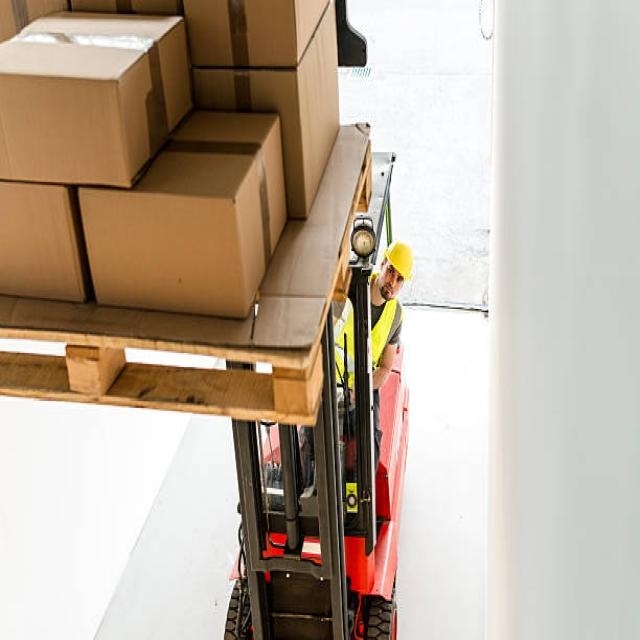Wooden-Pallets: (1, 137, 376, 424)
